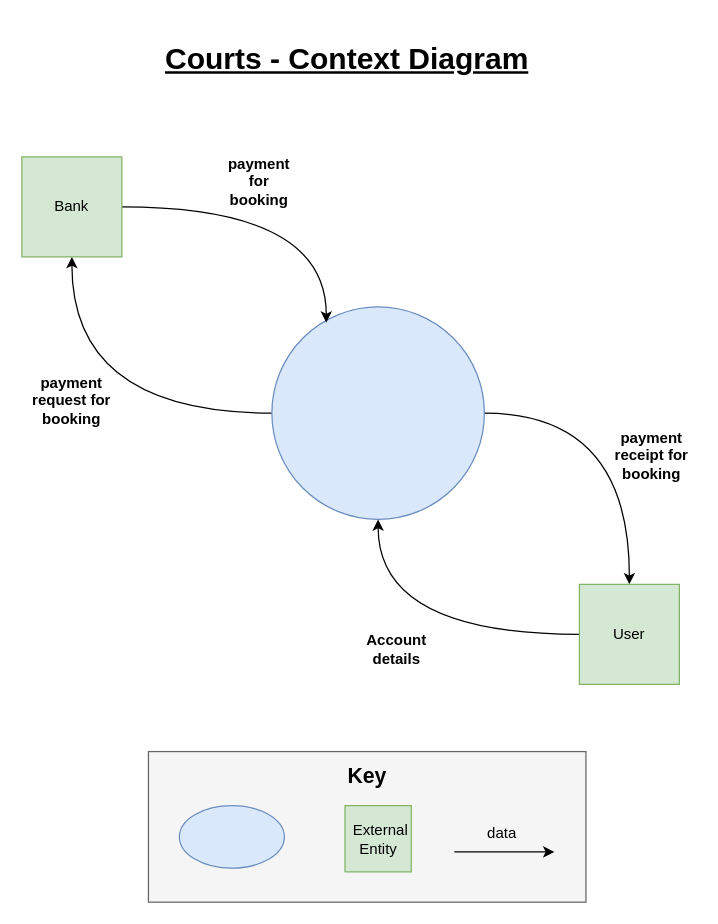
Some shapes in this 718 by 924 pixel diagram are drawn without their labels. Each missing label, with the centre of its shape:
Application: the point at 231,836
Booking System: the point at 377,412
